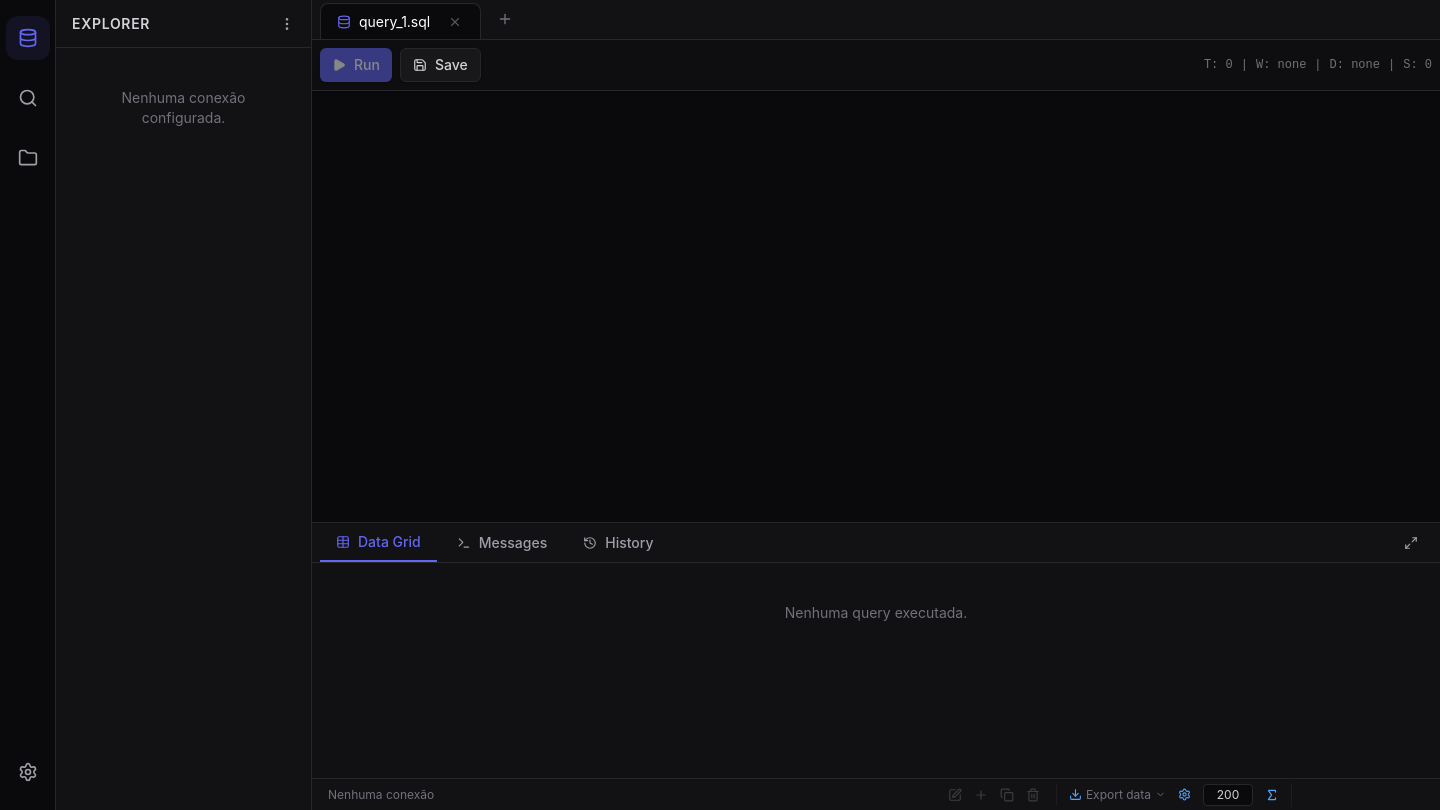
Scenario: App React Components › opens connection manager when ActivityBar button is clicked
Click the button titled "Gerenciador de Conexões": (28, 38) [6, 16, 50, 60]
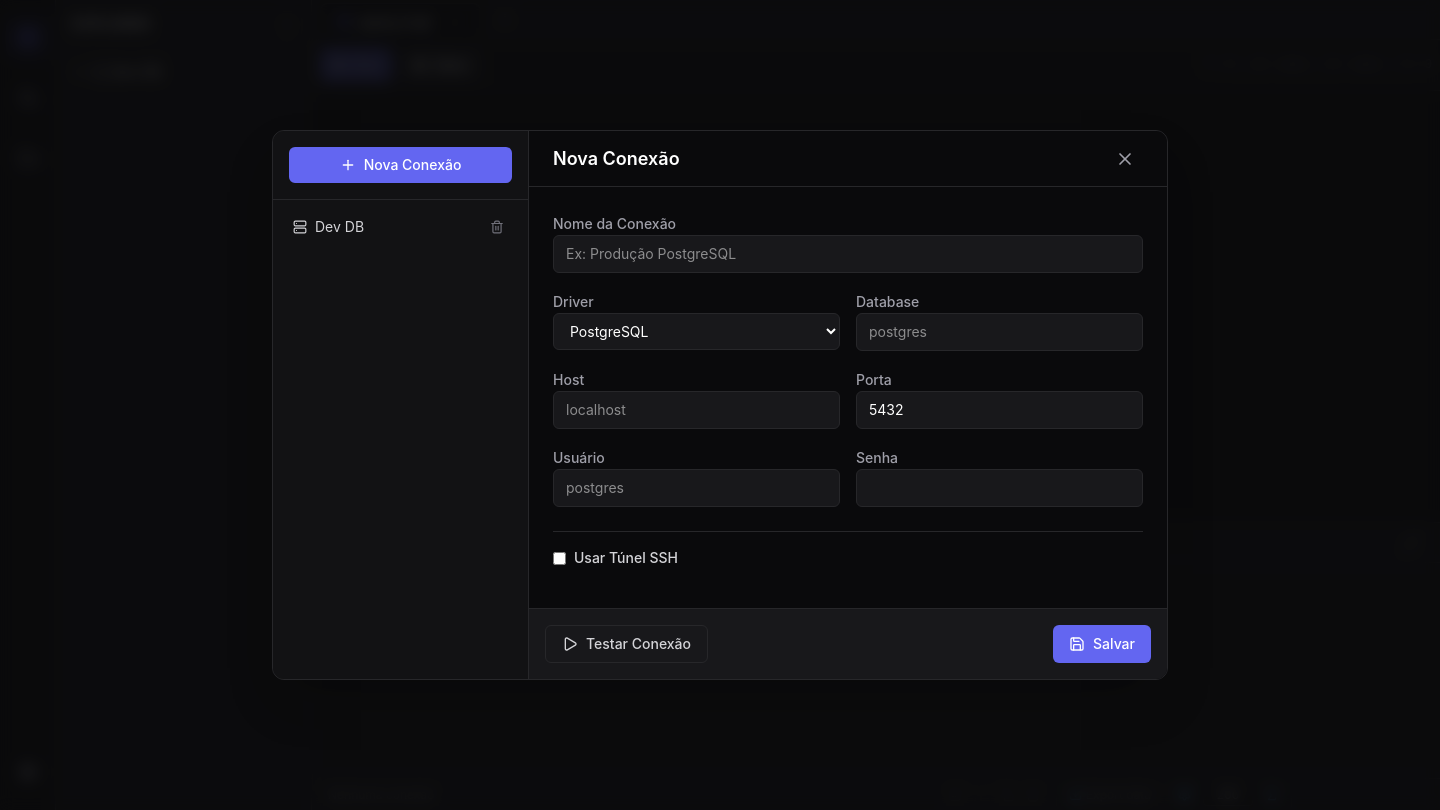
Now the button "Nova Conexão" is shown, box [289, 147, 512, 183]
